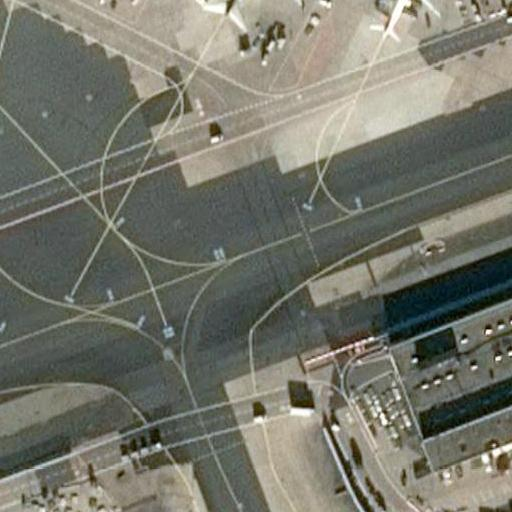Aircraft: (353, 0, 433, 38), (189, 0, 299, 26)
